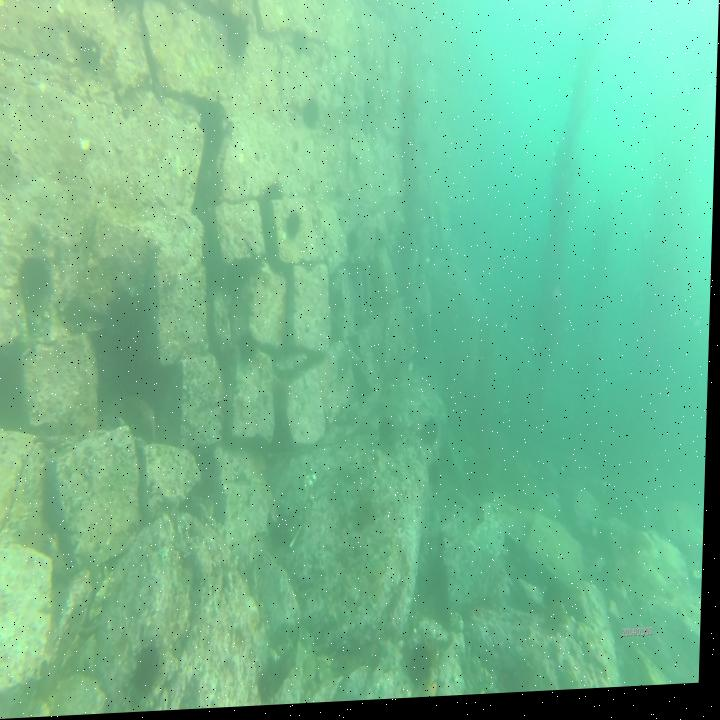echinus: (16, 252, 55, 319), (132, 642, 168, 704), (409, 640, 442, 697), (351, 497, 380, 542), (224, 13, 251, 61), (238, 331, 263, 376), (76, 35, 103, 73), (289, 27, 311, 67), (380, 415, 400, 456), (422, 416, 443, 455), (335, 350, 356, 386), (284, 211, 304, 248), (302, 96, 322, 132), (343, 227, 364, 260), (373, 222, 390, 262)
